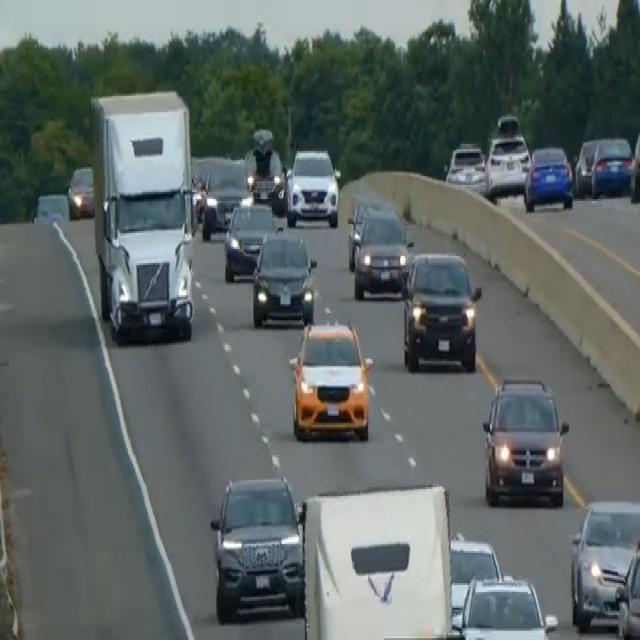car: (209, 471, 305, 622), (481, 374, 569, 508), (287, 316, 373, 442), (400, 249, 482, 373), (569, 496, 639, 631), (452, 572, 558, 638), (250, 226, 317, 327), (352, 204, 412, 300), (448, 532, 502, 626), (222, 197, 275, 281), (285, 146, 339, 228), (200, 156, 251, 240), (346, 192, 394, 270), (523, 142, 574, 212), (485, 132, 529, 199), (590, 134, 633, 198), (614, 535, 639, 638), (444, 138, 487, 196), (573, 135, 600, 196), (67, 164, 94, 218), (32, 190, 70, 224), (629, 128, 639, 203), (495, 110, 521, 137)
lorry: (88, 87, 196, 343)
